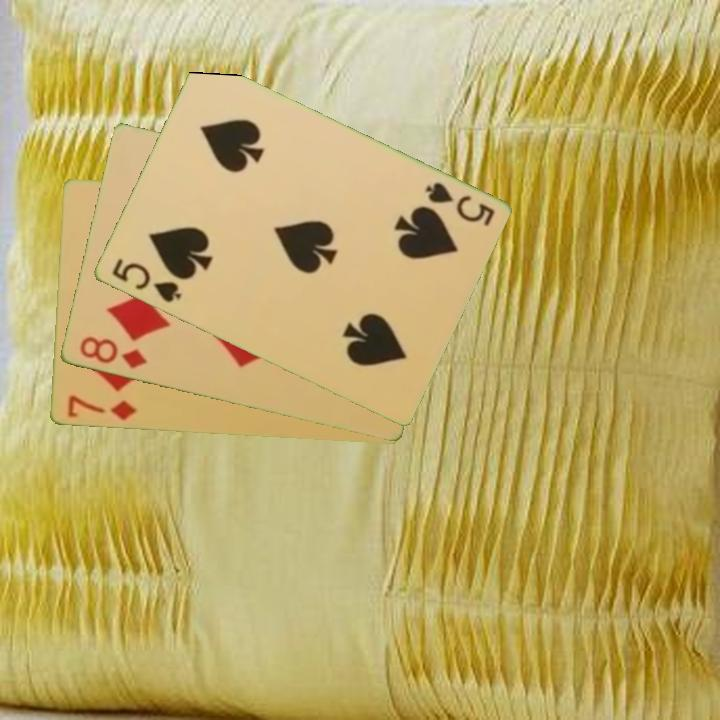5s: (421, 178, 497, 230), (108, 255, 184, 306)
7d: (64, 392, 138, 424)
8d: (75, 333, 150, 372)
